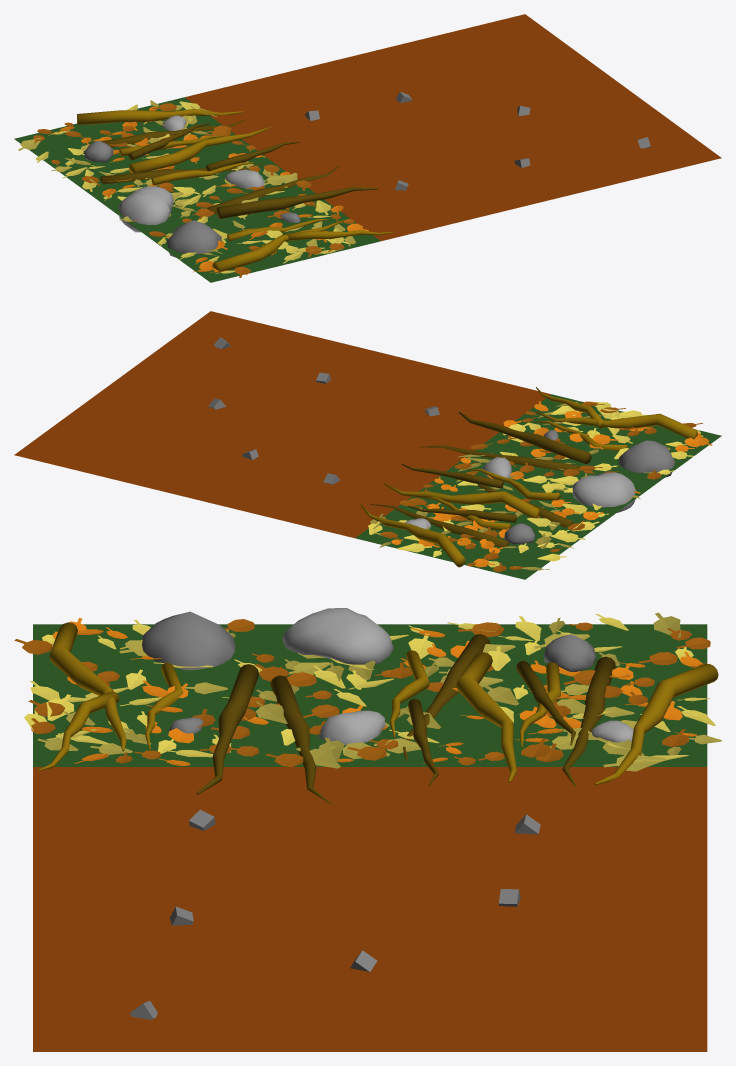
Rendered from sol map sombre2.fbx.
The picture shows the model from 3 angles, top to bottom: view 1: azimuth 30°, elevation 25°; view 2: azimuth 150°, elevation 25°; view 3: azimuth 270°, elevation 25°; orthographic projection. The views are drawn at different scales.
Parts seen in each view (by area): view 1: sol sombre gauche2; view 2: sol sombre gauche2; view 3: sol sombre gauche2.
Boxes of the visible parts, bbox=[...] form: sol sombre gauche2: bbox=[14, 14, 721, 282]; sol sombre gauche2: bbox=[14, 311, 721, 579]; sol sombre gauche2: bbox=[14, 608, 721, 1051].
Size of the model in its own units: 306 by 19.88 by 210.
